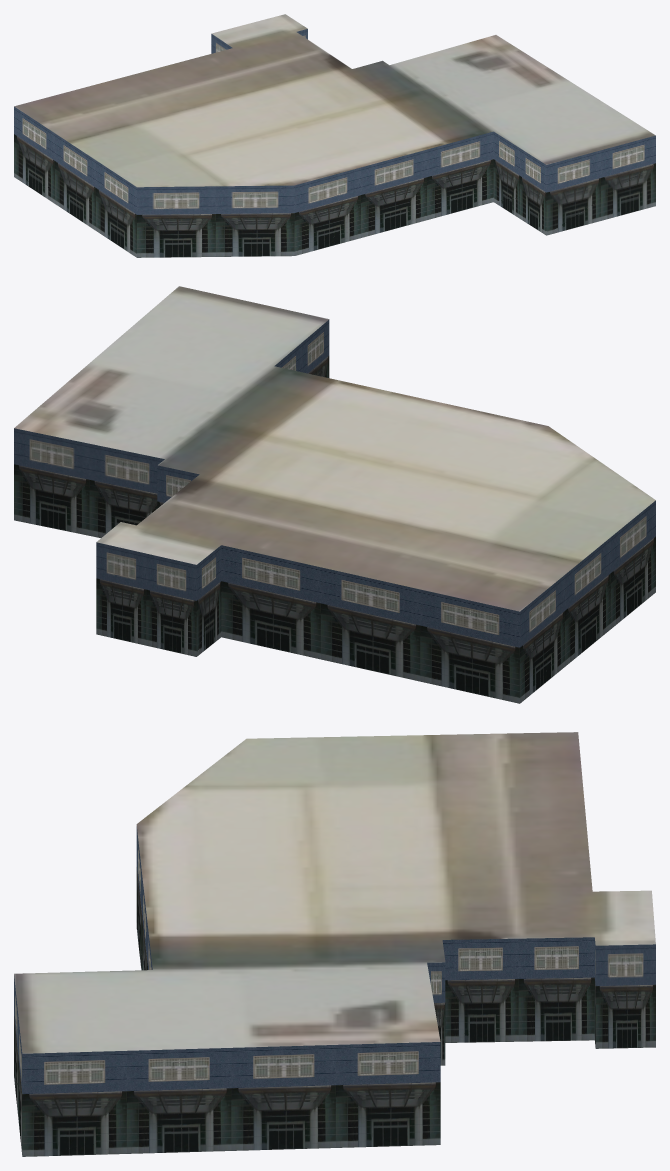
File: T_1SWN24NV4T.dae
3 views of the same model, one above another, from view 1: azimuth 30°, elevation 25°; view 2: azimuth 150°, elevation 25°; view 3: azimuth 270°, elevation 25° (orthographic). The views are drawn at different scales.
Visible parts, largest first — view 1: SketchUp (×11); view 2: SketchUp (×13); view 3: SketchUp (×10).
Boxes of the visible parts, x1,y1,x2,y2 form: SketchUp (×11): [14, 14, 655, 257]; SketchUp (×13): [14, 286, 655, 703]; SketchUp (×10): [14, 732, 655, 1156].
Size of the model in its own units: 36.27 by 30.58 by 5.42.
3 materials, 3 textured.
